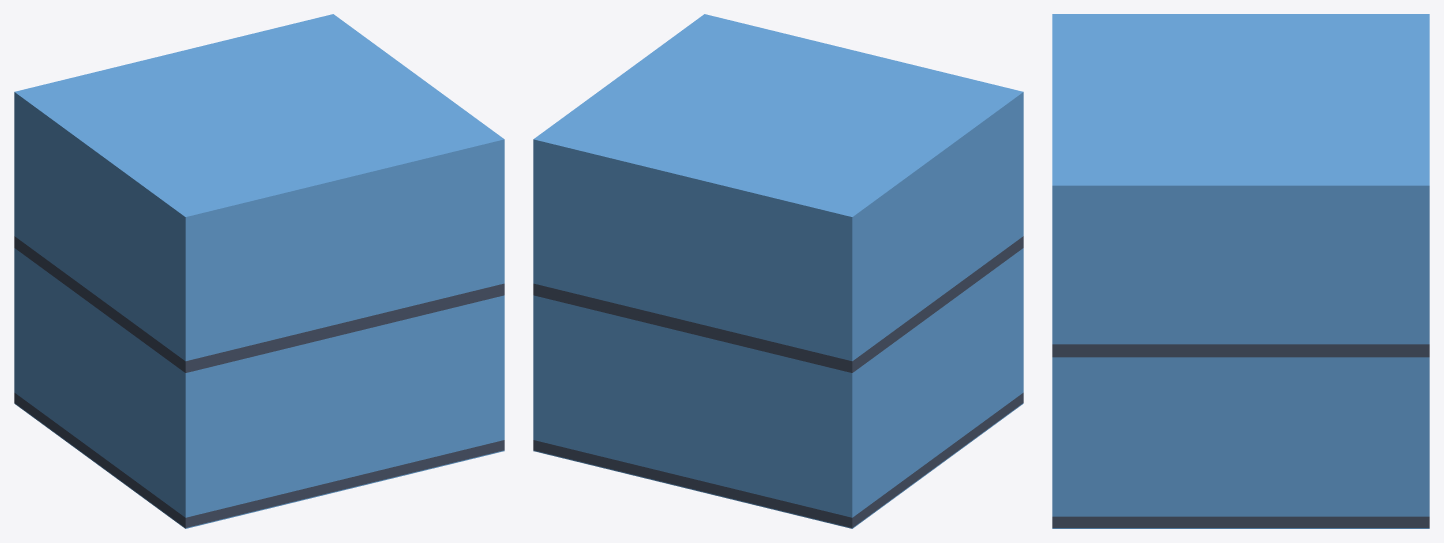
File: building_1x1_7_f.glb
3 renders of one model, left to right at view 1: azimuth 30°, elevation 25°; view 2: azimuth 150°, elevation 25°; view 3: azimuth 270°, elevation 25°, orthographic. The views are drawn at different scales.
Parts seen in each view (by area): view 1: Cube.001; view 2: Cube.001; view 3: Cube.001.
Part boxes in pixels (box(x1,y1,x2,y2)): Cube.001: box(14, 14, 504, 528); Cube.001: box(533, 14, 1023, 528); Cube.001: box(1052, 14, 1429, 528).
Size of the model in its own units: 1.72 by 1.6 by 1.6.
